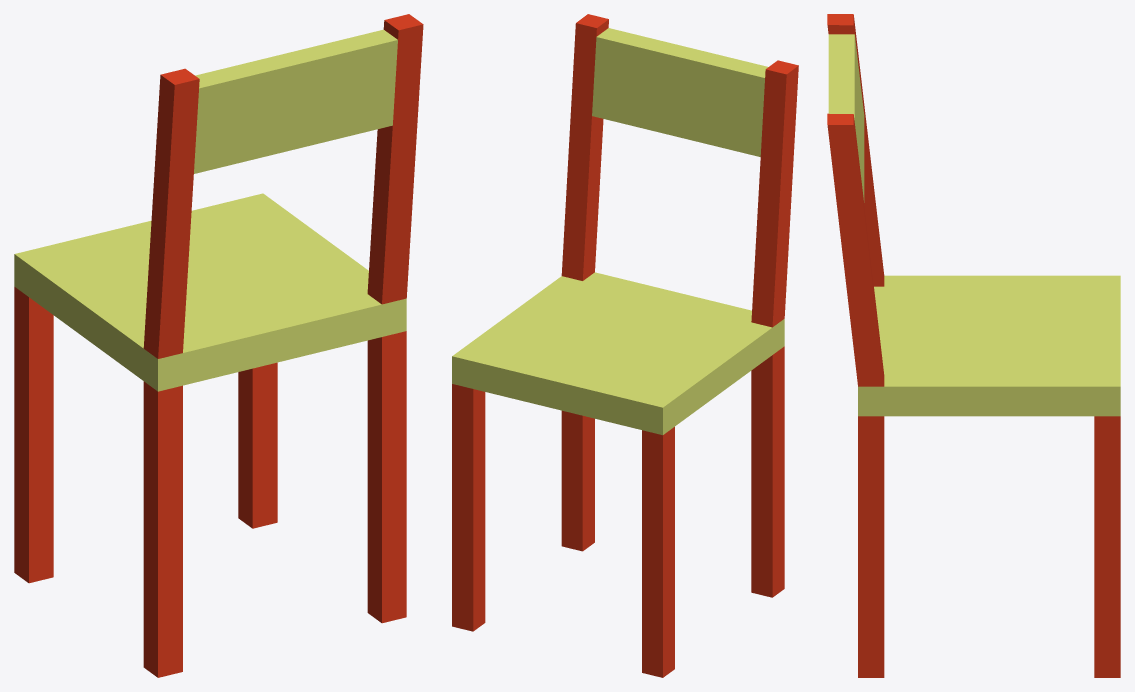
File: Chair.glb
The picture shows the model from 3 angles, left to right: view 1: azimuth 30°, elevation 25°; view 2: azimuth 150°, elevation 25°; view 3: azimuth 270°, elevation 25°; orthographic projection. The views are drawn at different scales.
Visible parts, largest first — view 1: Chair; view 2: Chair; view 3: Chair.
Part boxes in pixels (x1,y1,x2,y2): Chair: (14,14,423,677); Chair: (452,14,798,677); Chair: (827,14,1120,677).
Size of the model in its own units: 0.4 by 0.9301 by 0.4466.
